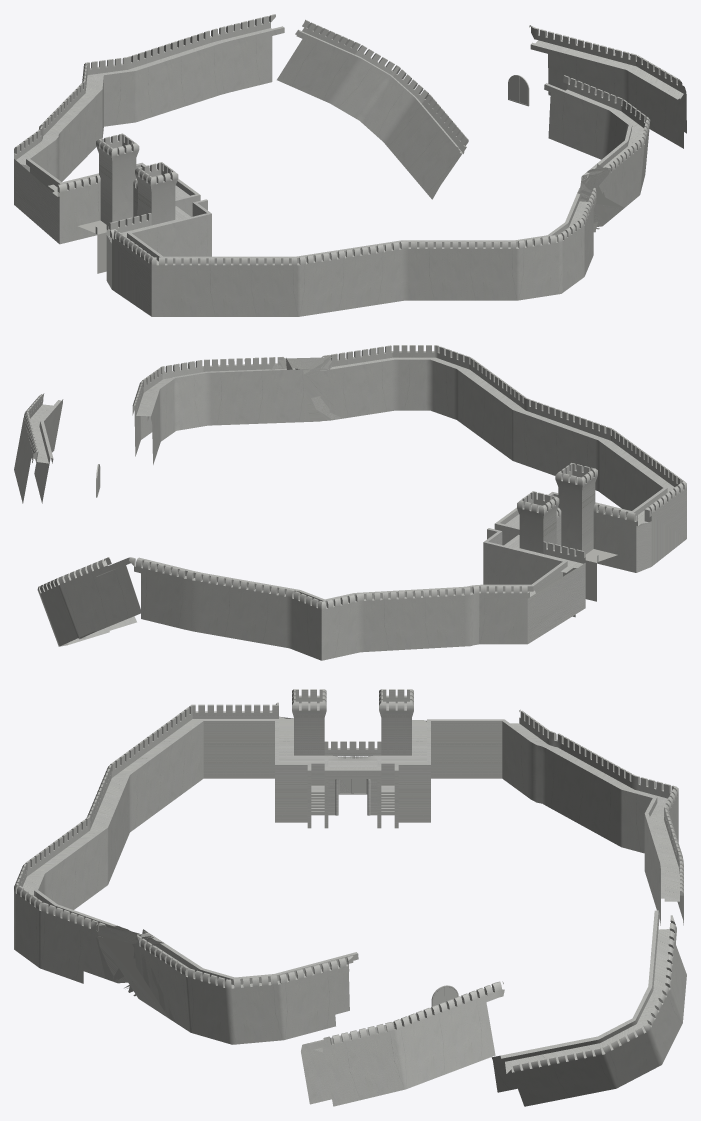
File: fortress 2.glb
The picture shows the model from 3 angles, top to bottom: view 1: azimuth 30°, elevation 25°; view 2: azimuth 150°, elevation 25°; view 3: azimuth 270°, elevation 25°; orthographic projection. The views are drawn at different scales.
Visible parts, largest first — view 1: Castle.001, Gate001.001; view 2: Castle.001; view 3: Castle.001.
Part boxes in pixels (x1,y1,x2,y2): Castle.001: (14, 14, 686, 316); Gate001.001: (508, 75, 529, 106); Castle.001: (14, 345, 686, 660); Castle.001: (14, 689, 686, 1106).
Size of the model in its own units: 58.64 by 17.19 by 50.85.
1 material, 1 textured.
